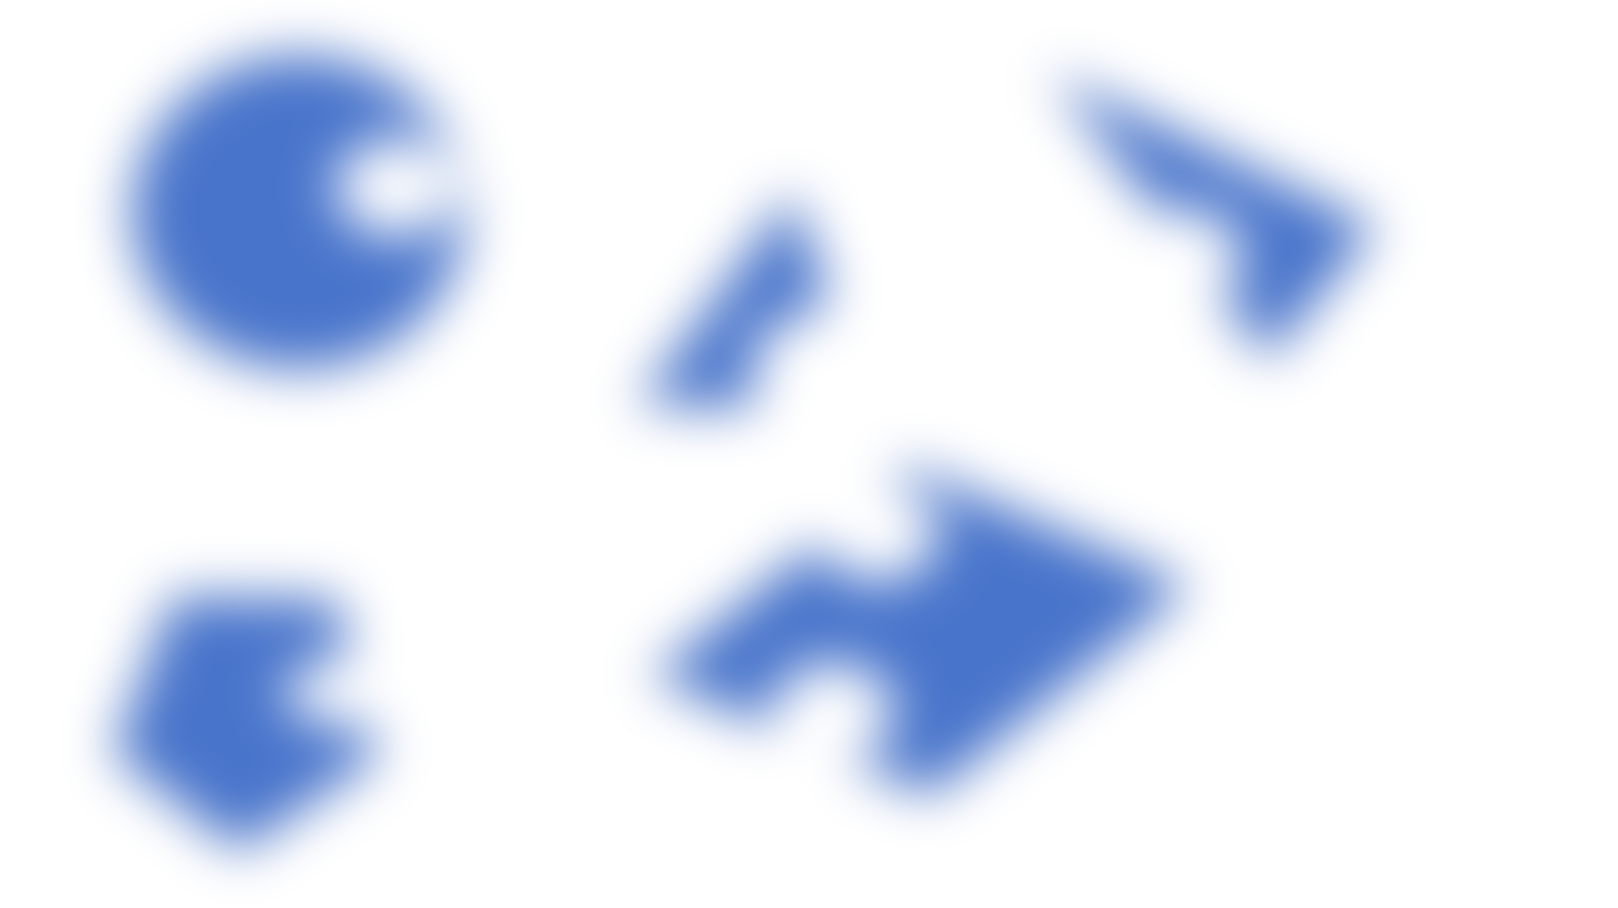circle: (114, 38, 486, 379)
parallelogram: (667, 438, 1170, 825)
pentagon: (101, 583, 384, 868)
trapezium: (613, 193, 863, 453)
triangle: (1036, 56, 1405, 395)
